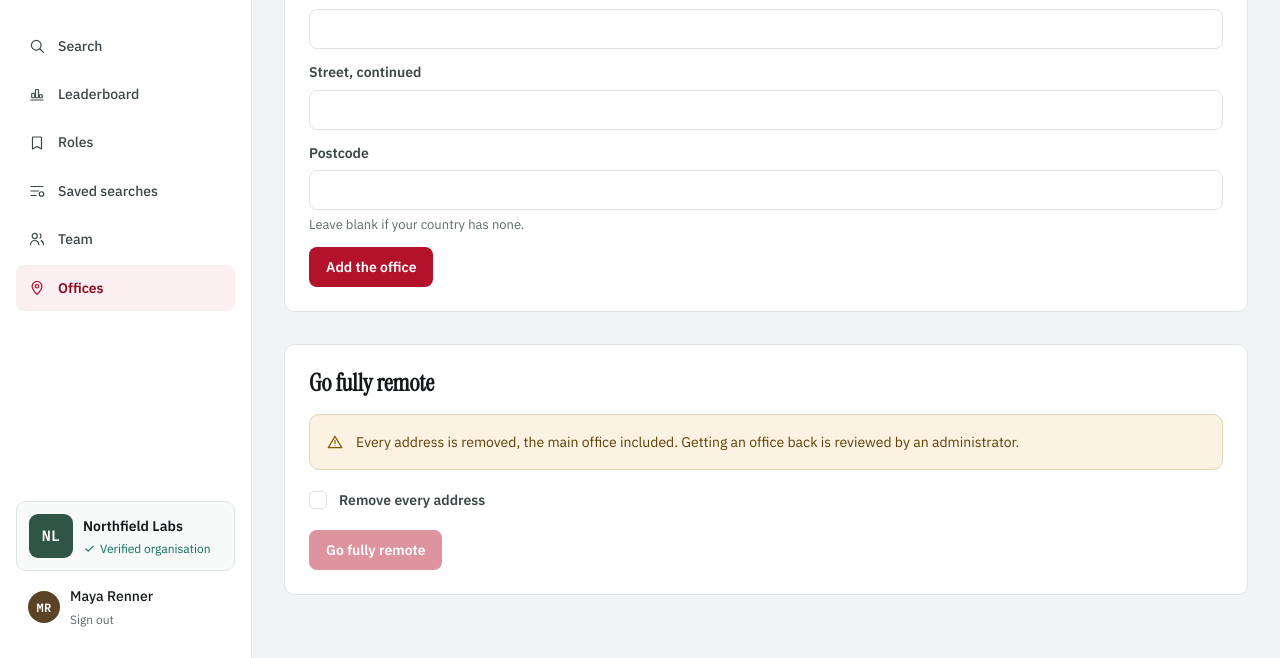
the app renders › names the onsite roles that stop an organisation going fully remote
(page scrolled)
Expected: the button "Go fully remote" is disabled, [309,530,442,570]
Click the checkbox labelled "Remove every address". click: point(318, 500)
box: [309,491,327,509]
(page scrolled)
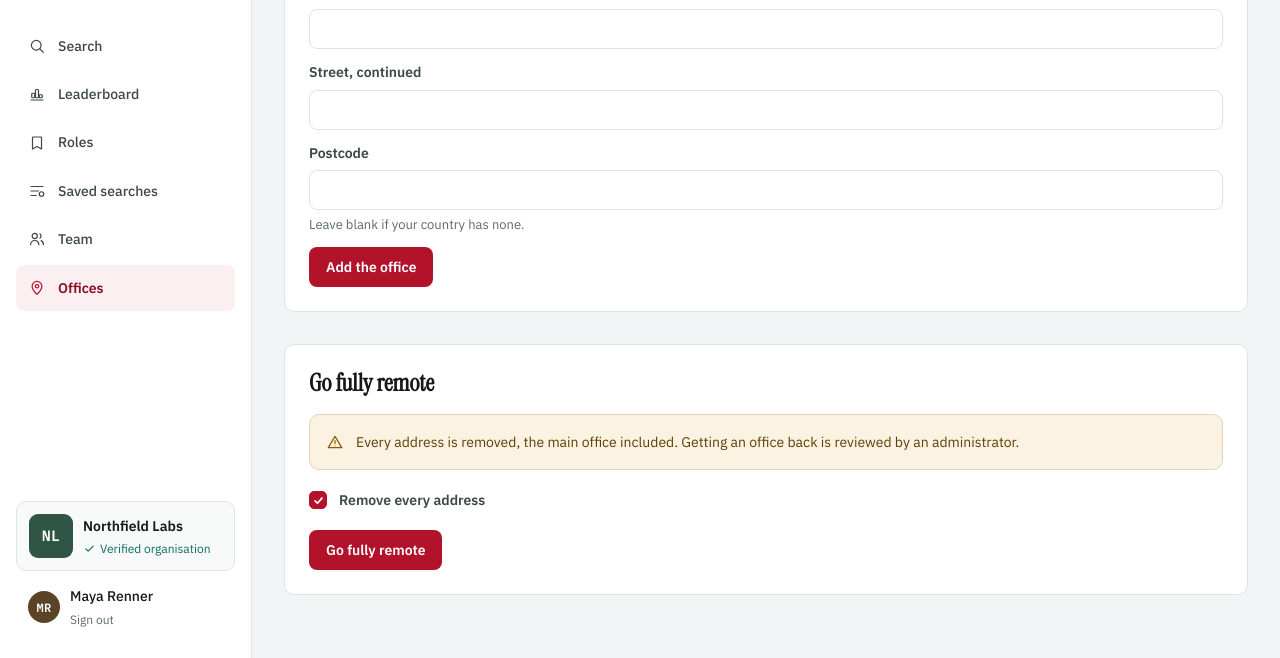
Click the button "Go fully remote". click: point(376, 550)
box: [309,530,442,570]
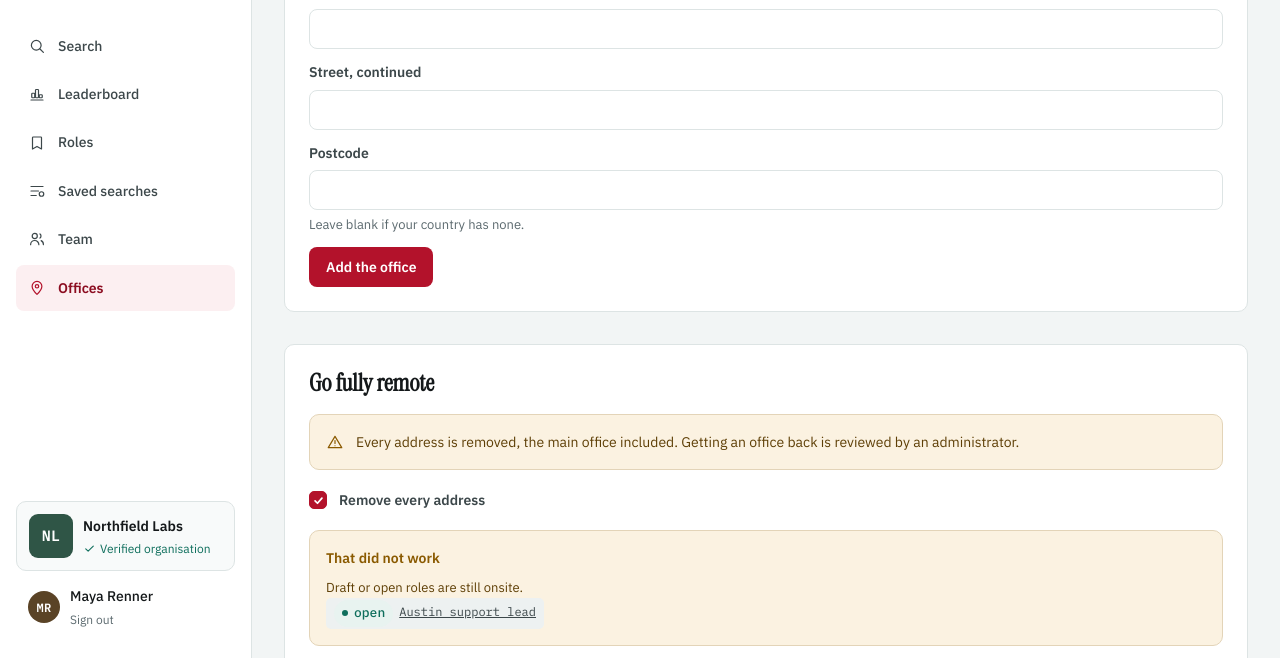
Now the link "Austin support lead" is shown, box [399,603,536,622]
Now the text "Draft or open roles are still onsite." is shown, box [326,579,523,596]
